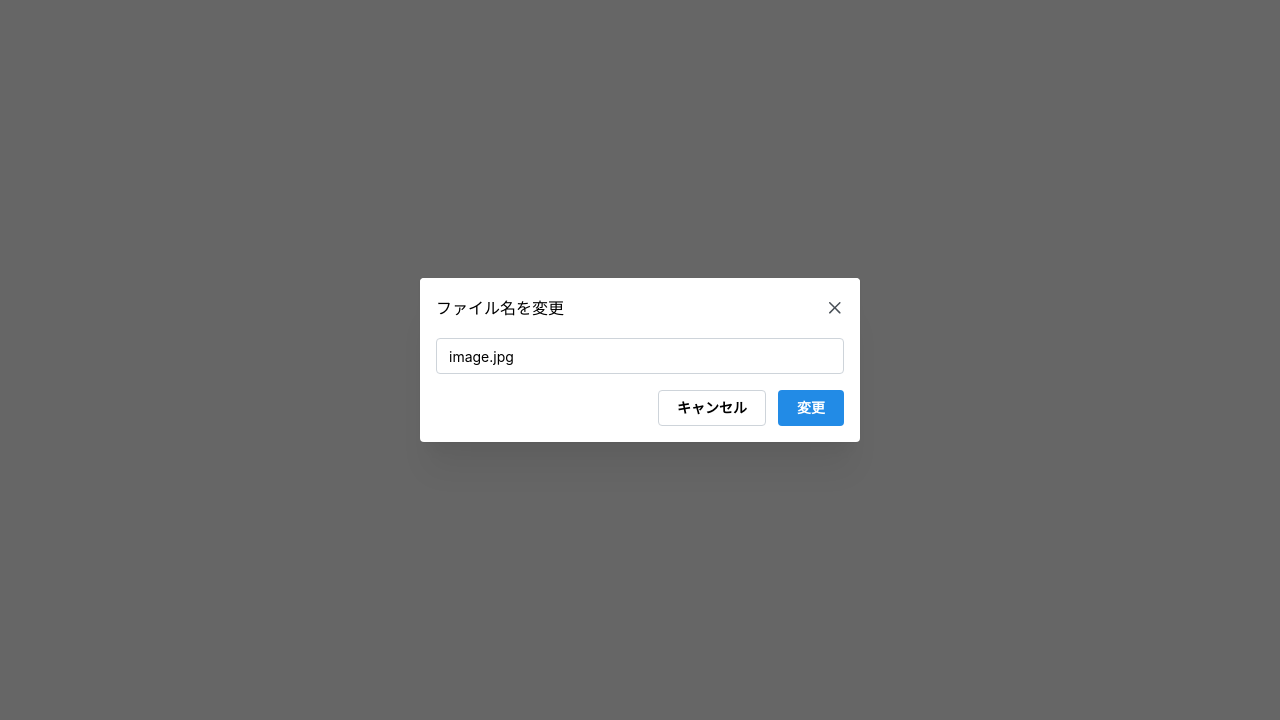
Test case: RenameDialog › validation error display › should show error for empty name
Clear the field: (640, 356) x1=436 y1=338 x2=844 y2=374
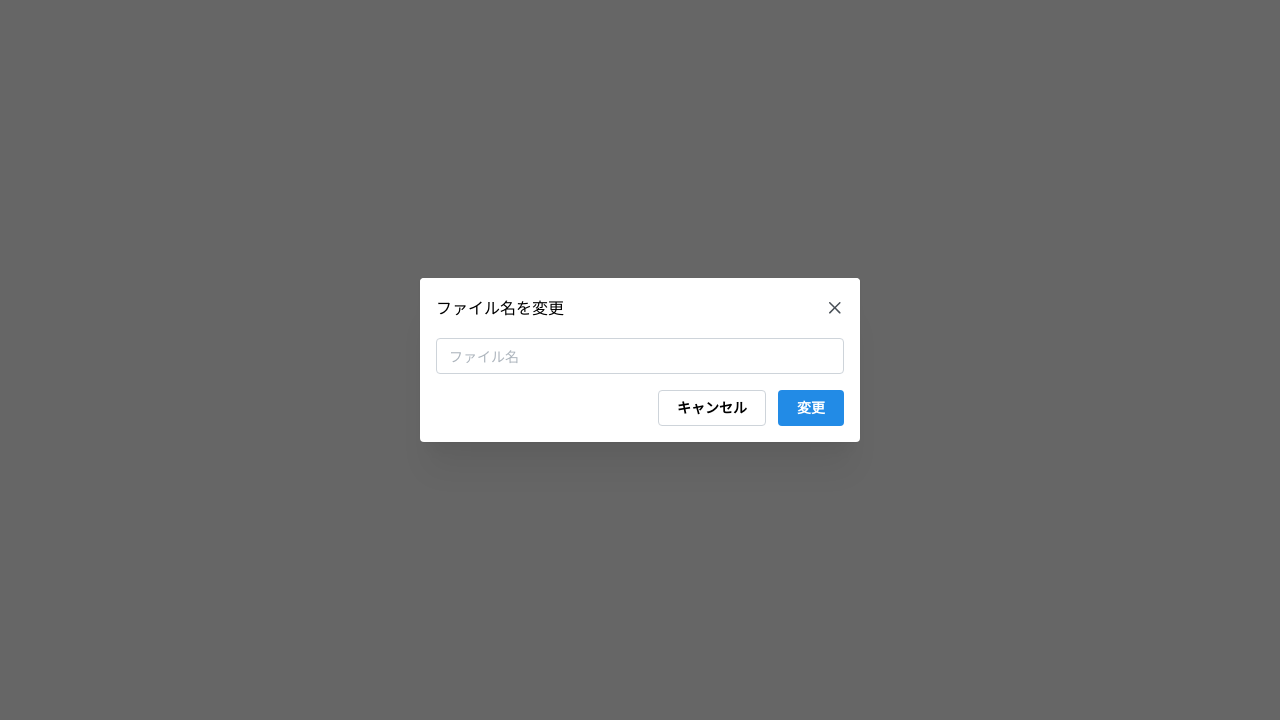
Click the button "変更": (811, 408) x1=778 y1=390 x2=844 y2=426
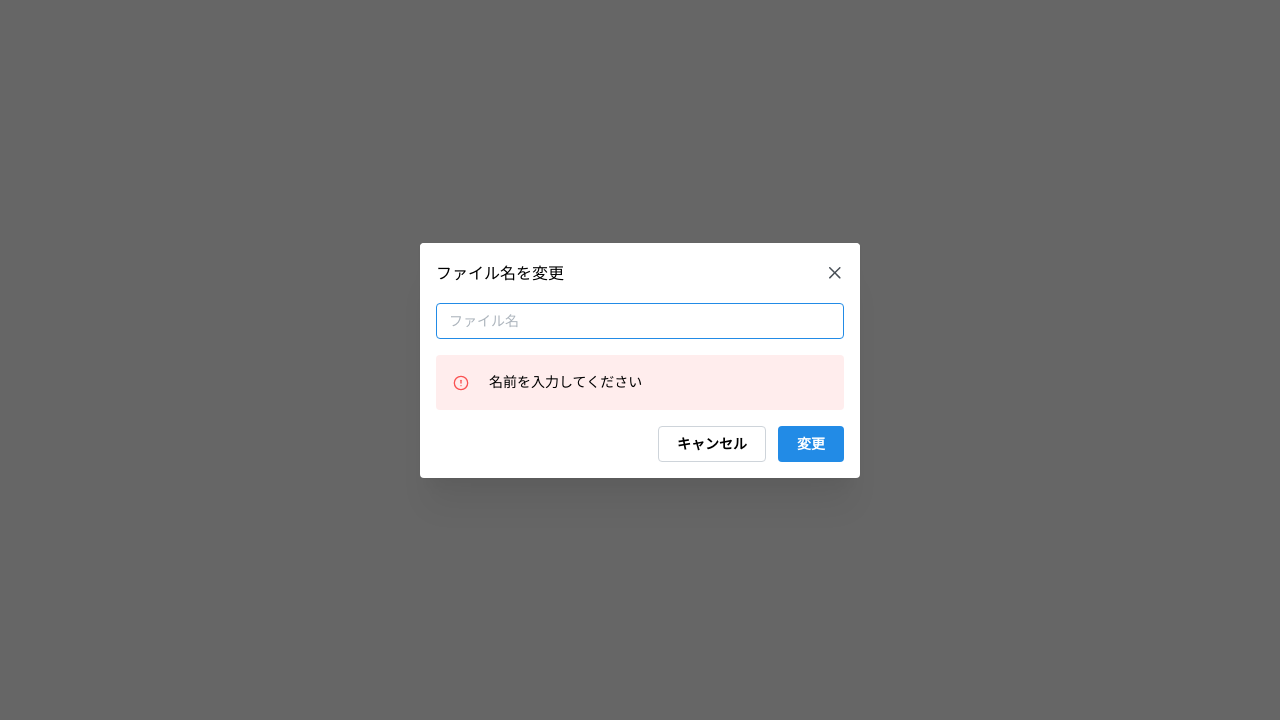
Now the text "名前を入力してください" is shown, box x1=489 y1=372 x2=642 y2=390
